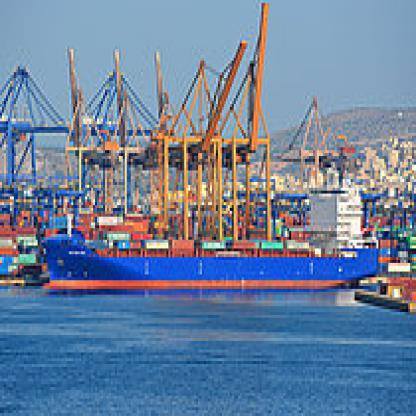Container Ship: (37, 131, 379, 291), (39, 230, 380, 292)
